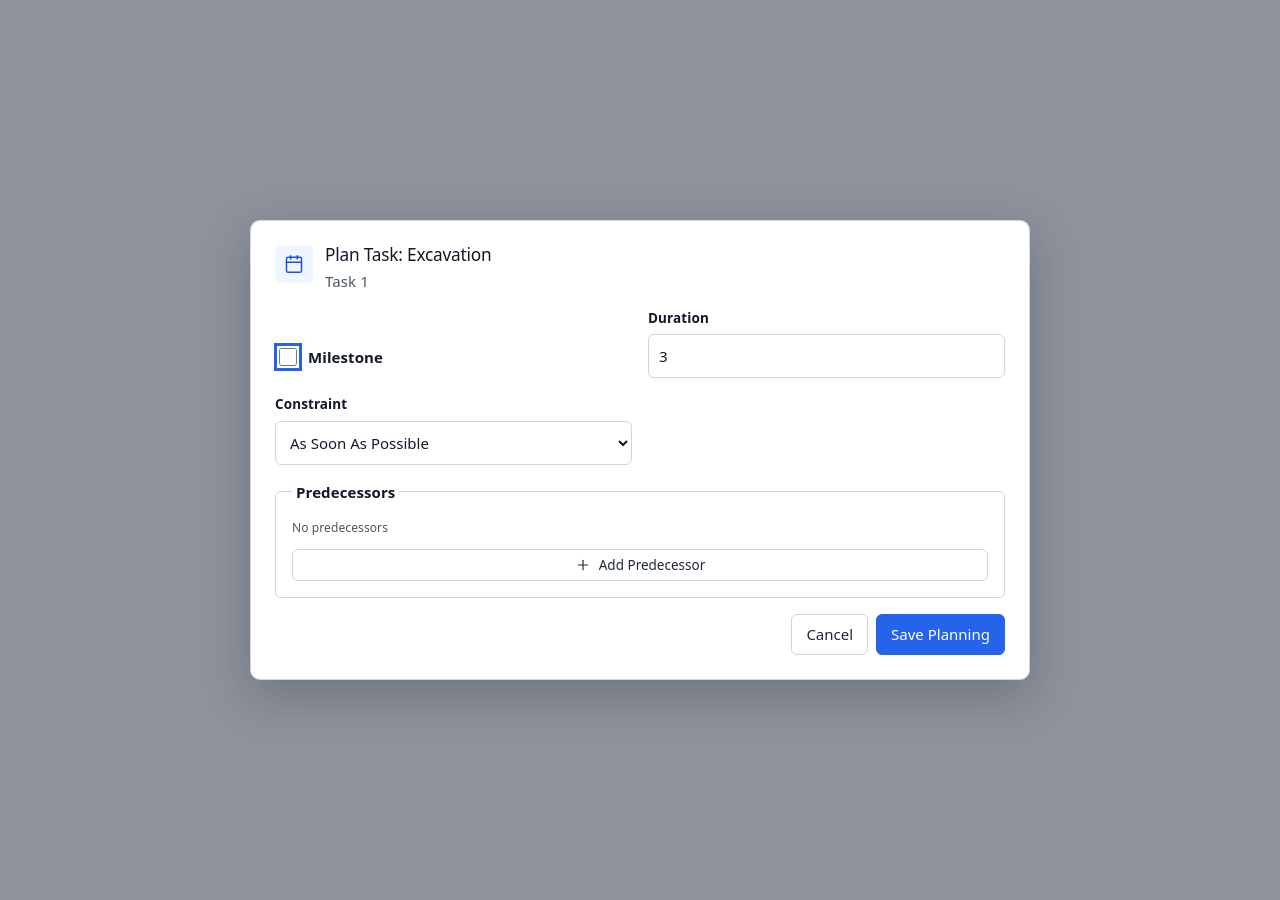
Test: TaskPlanningDialog › validates workday constraints and in-progress milestone conversion
Click the checkbox labelled "Milestone".
click(288, 357)  # box [279,348,297,366]
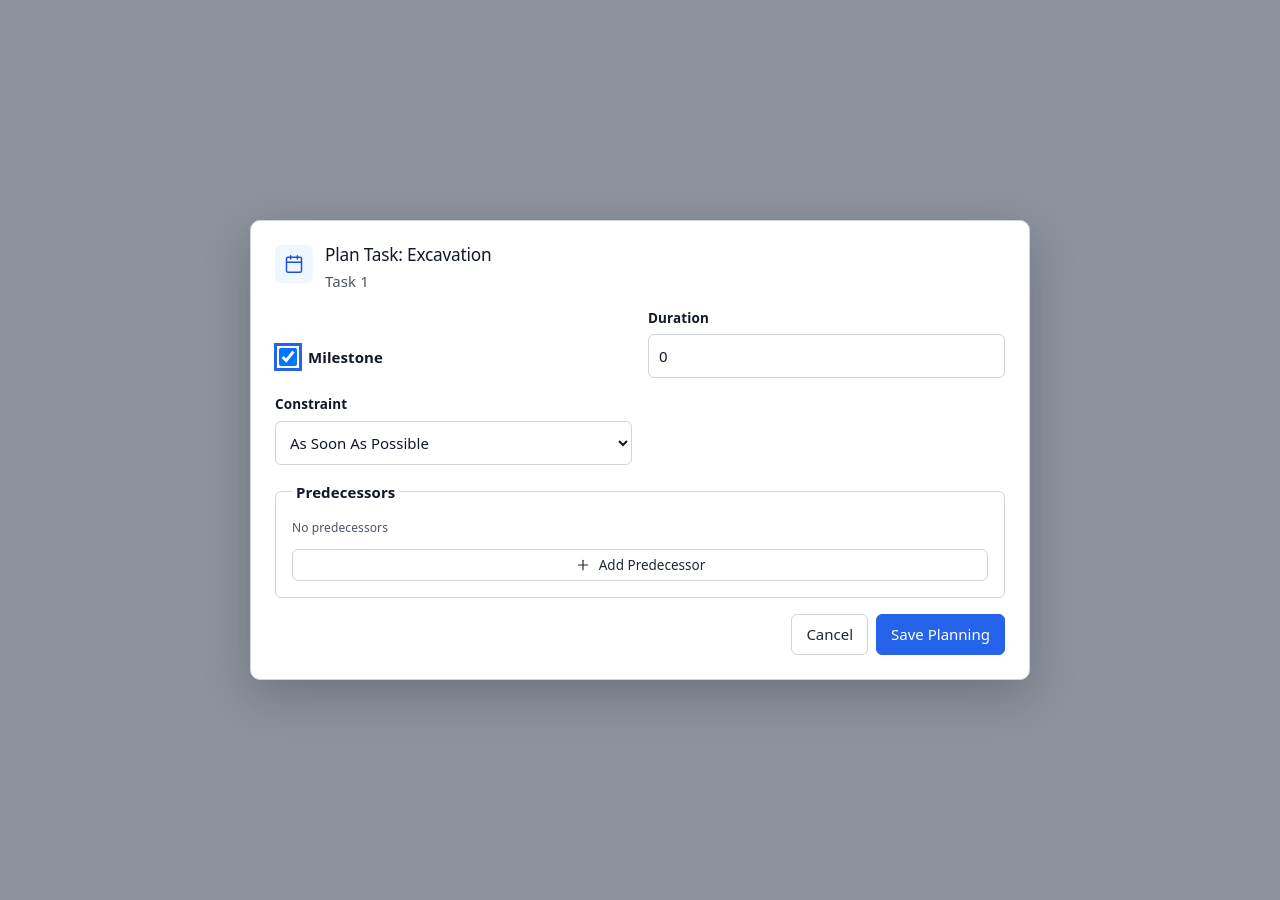
Select "Finish No Later Than" in the dropdown labelled "Constraint" at (454, 442), box [275,420,632,464]
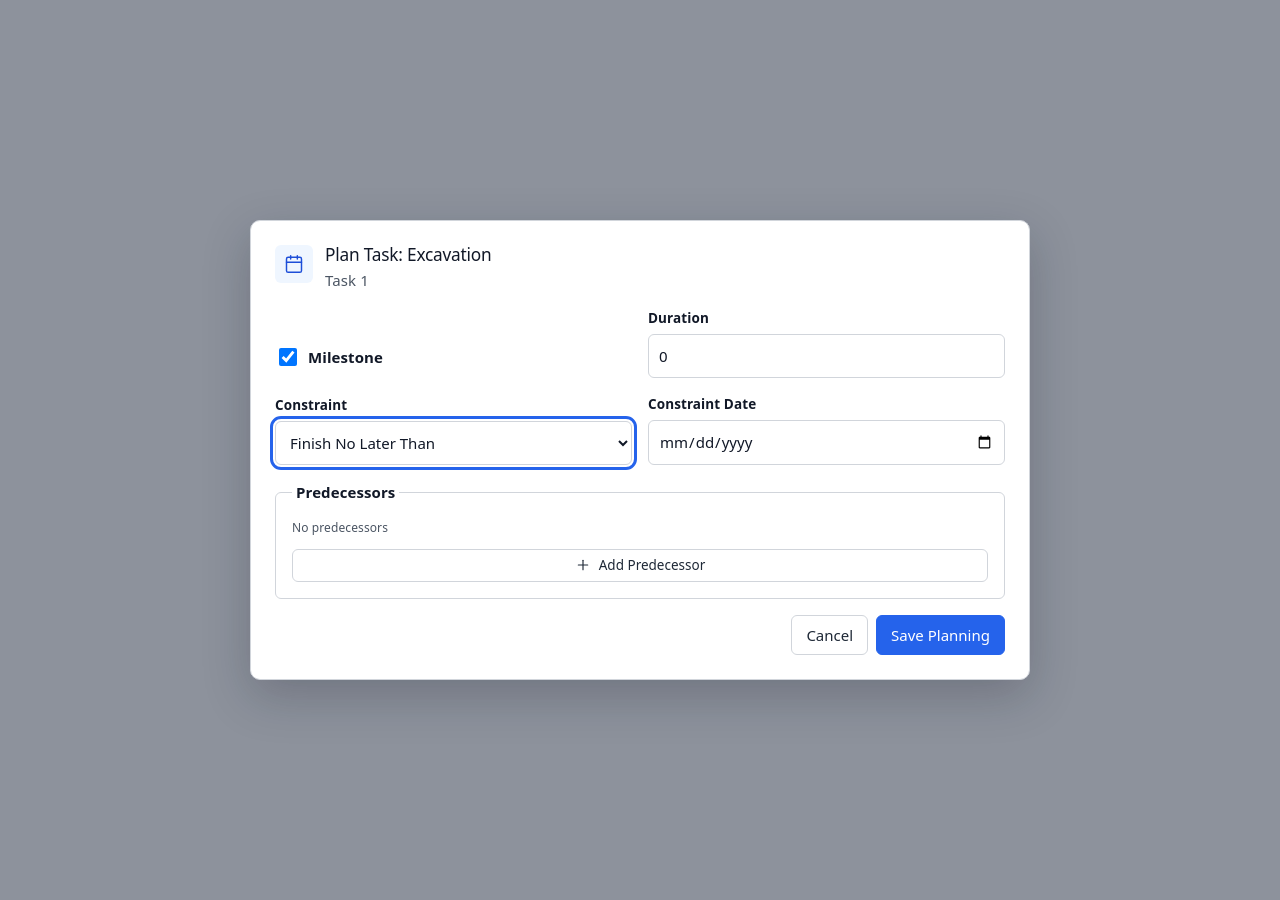
Type "2026-03-07" into the date field labelled "Constraint Date".
click(826, 443); type("2026-03-07")  # box [648,420,1005,465]
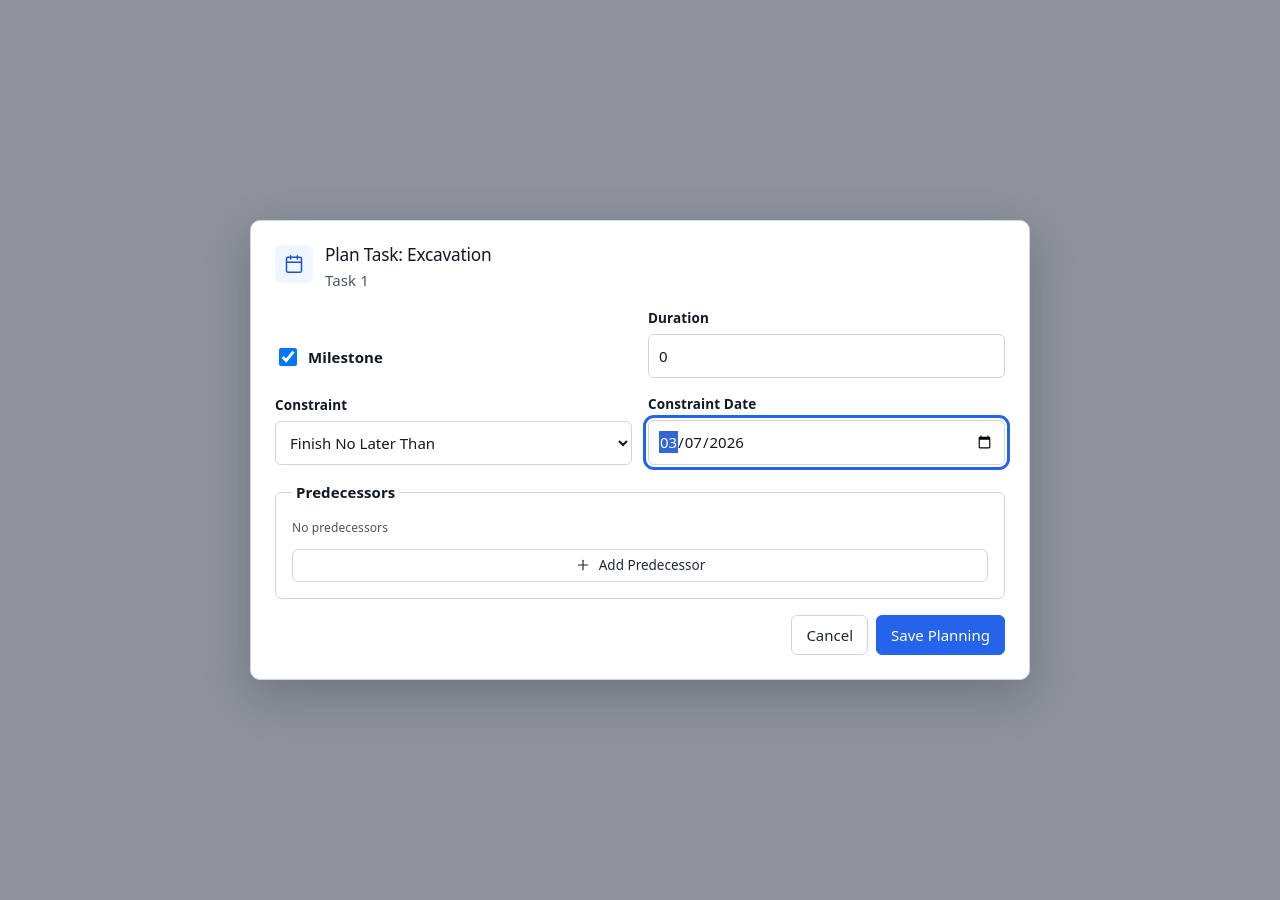
Click the button "Save Planning".
click(941, 635)  # box [876,614,1005,655]
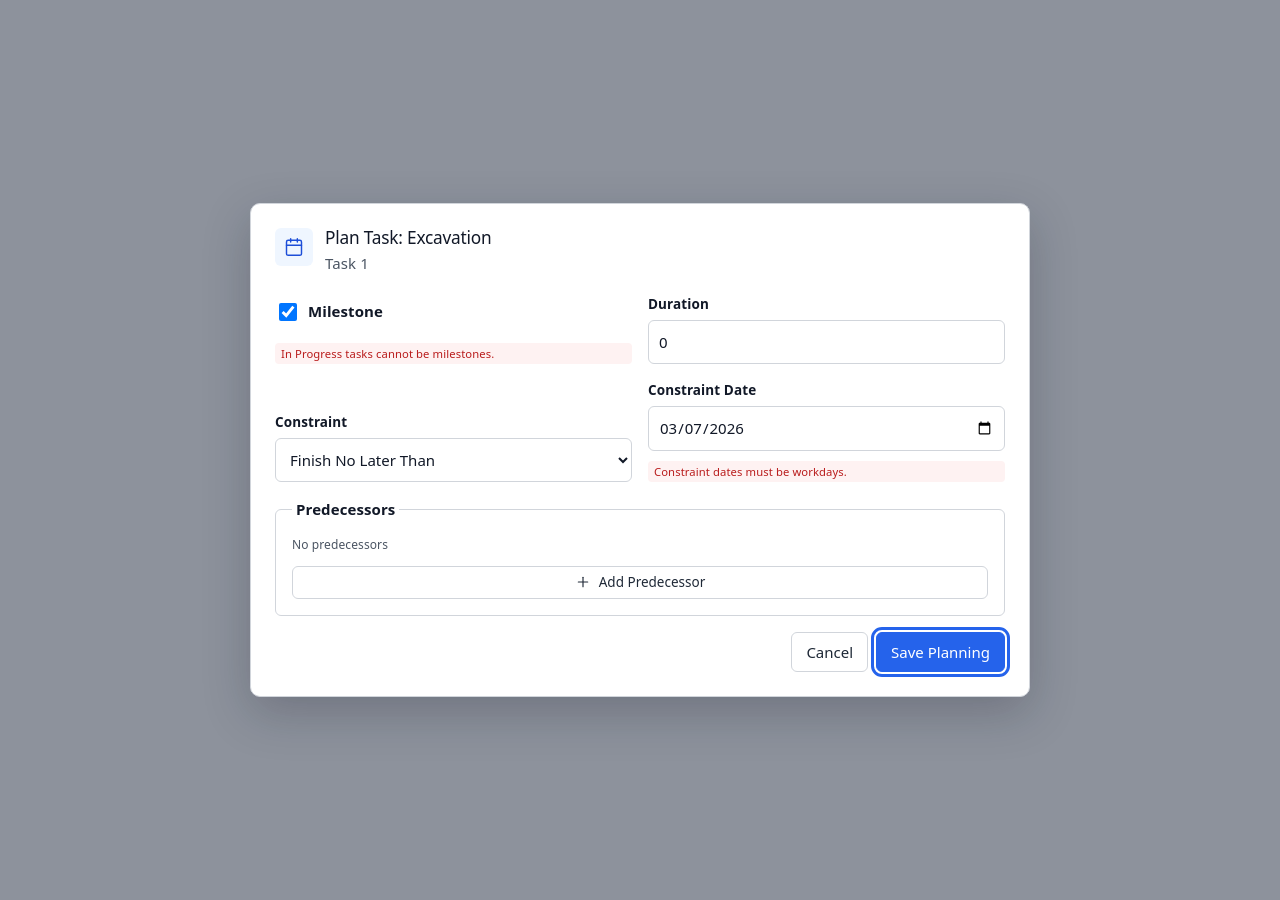
Expected: the text "In Progress tasks cannot be milestones." is shown, [275,343,632,364]
Expected: the text "Constraint dates must be workdays." is shown, [648,461,1005,482]
